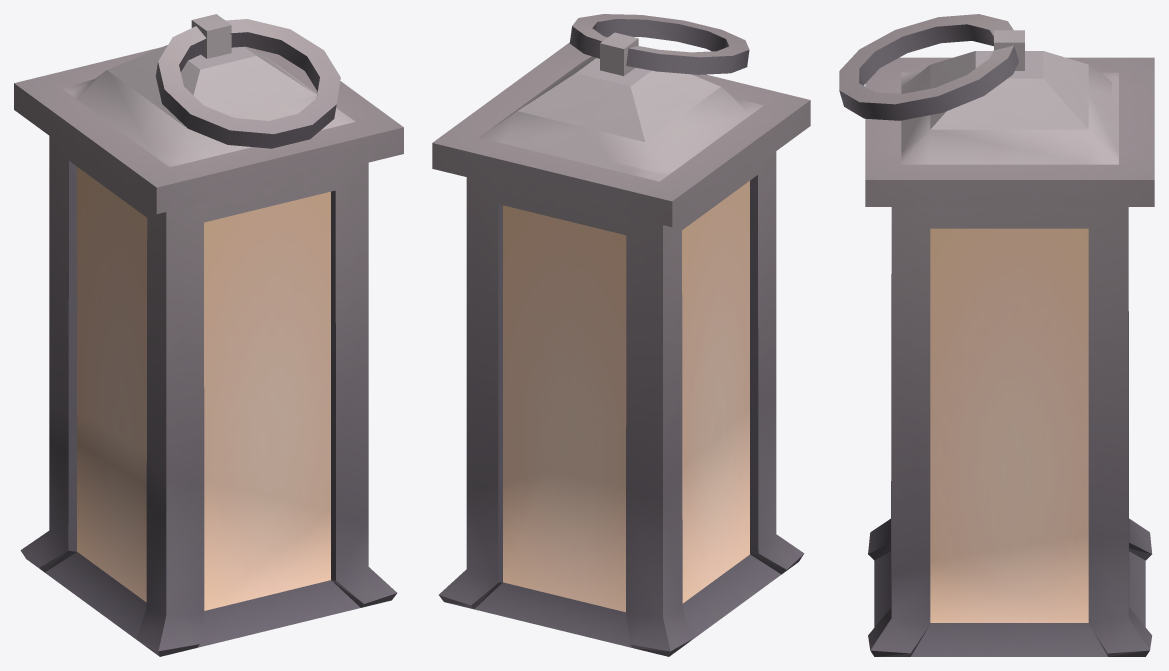
Rendered from M_lantern_fragments.FBX.
3 renders of one model, left to right at view 1: azimuth 30°, elevation 25°; view 2: azimuth 150°, elevation 25°; view 3: azimuth 270°, elevation 25°, orthographic. The views are drawn at different scales.
Parts seen in each view (by area): view 1: Box011_Part_7, Box011_Part_6, Box011_Part_1, Box011_Part_2, Box011_Part_4, Box011_Part_3, Box011_Part_5; view 2: Box011_Part_7, Box011_Part_5, Box011_Part_3, Box011_Part_1, Box011_Part_2, Box011_Part_6, Box011_Part_4; view 3: Box011_Part_6, Box011_Part_2, Box011_Part_7, Box011_Part_1, Box011_Part_3, Box011_Part_5, Box011_Part_4.
Boxes of the visible parts, <box> form: Box011_Part_7: <box>20,408,396,656</box>; Box011_Part_6: <box>118,283,368,522</box>; Box011_Part_1: <box>40,14,327,232</box>; Box011_Part_2: <box>108,31,403,257</box>; Box011_Part_4: <box>130,239,368,406</box>; Box011_Part_3: <box>14,47,161,323</box>; Box011_Part_5: <box>49,251,141,420</box>; Box011_Part_7: <box>439,400,804,656</box>; Box011_Part_5: <box>466,255,736,498</box>; Box011_Part_3: <box>466,161,731,345</box>; Box011_Part_1: <box>571,17,810,194</box>; Box011_Part_2: <box>432,14,776,221</box>; Box011_Part_6: <box>466,329,776,490</box>; Box011_Part_4: <box>726,186,776,333</box>; Box011_Part_6: <box>891,296,1128,573</box>; Box011_Part_2: <box>843,81,1154,304</box>; Box011_Part_7: <box>868,481,1152,656</box>; Box011_Part_1: <box>839,14,1111,103</box>; Box011_Part_3: <box>1055,57,1154,298</box>; Box011_Part_5: <box>1060,289,1128,424</box>; Box011_Part_4: <box>891,274,980,330</box>.
Size of the model in its own units: 15.68 by 17.11 by 33.75.
